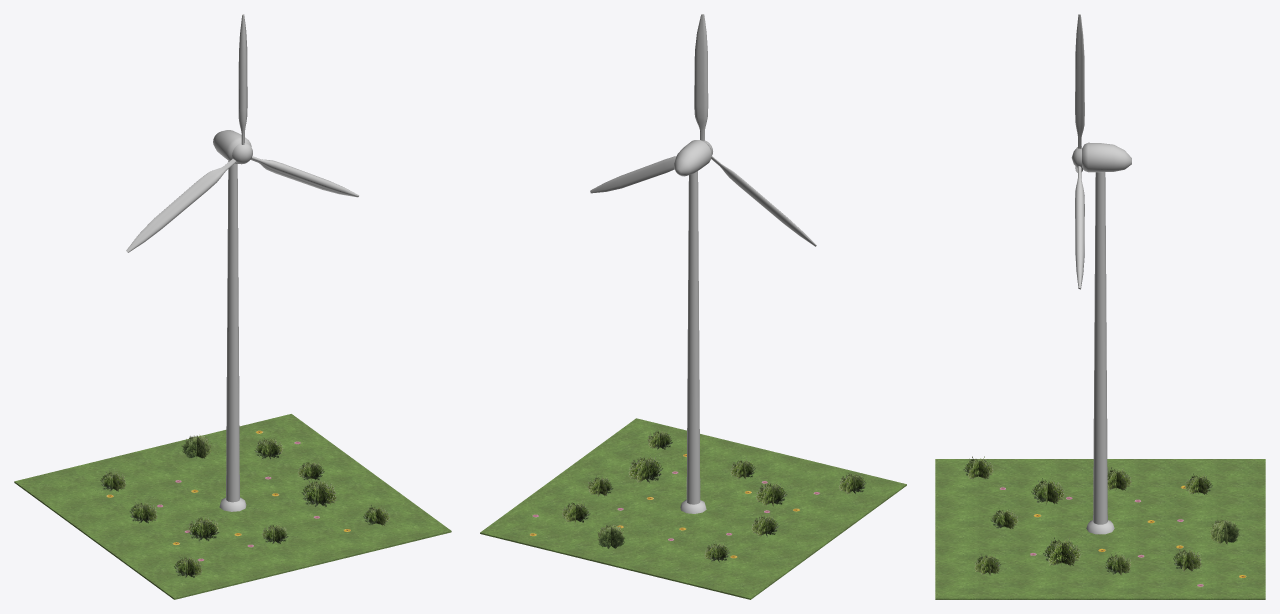
The model's file is power_wind01.fbx.
3 renders of one model, left to right at view 1: azimuth 30°, elevation 25°; view 2: azimuth 150°, elevation 25°; view 3: azimuth 270°, elevation 25°, orthographic. The views are drawn at different scales.
Parts seen in each view (by area): view 1: power_wind_tower01, power_wind_turbine01; view 2: power_wind_tower01, power_wind_turbine01; view 3: power_wind_tower01, power_wind_turbine01.
Part boxes in pixels (box(x1,y1,x2,y2)): power_wind_tower01: box(14, 130, 451, 599); power_wind_turbine01: box(126, 14, 359, 252); power_wind_tower01: box(480, 140, 906, 599); power_wind_turbine01: box(590, 14, 816, 246); power_wind_tower01: box(935, 142, 1265, 599); power_wind_turbine01: box(1071, 14, 1084, 289).
Size of the model in its own units: 4000 by 6896 by 4000.
